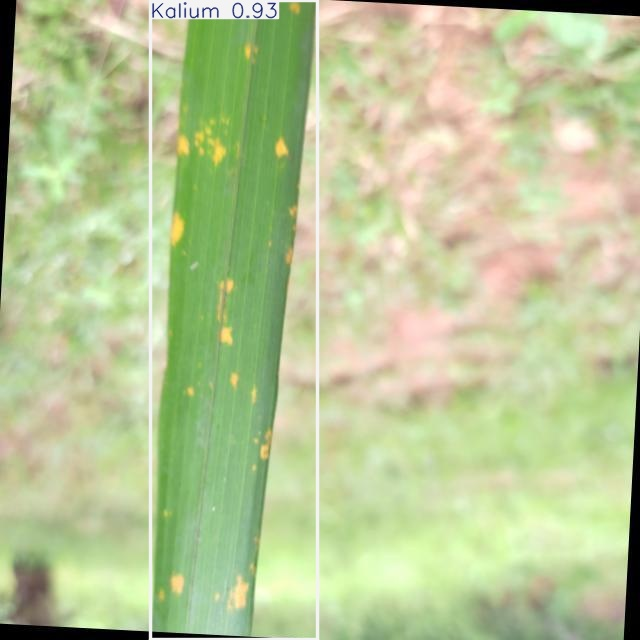Kalium: (151, 0, 318, 639)
